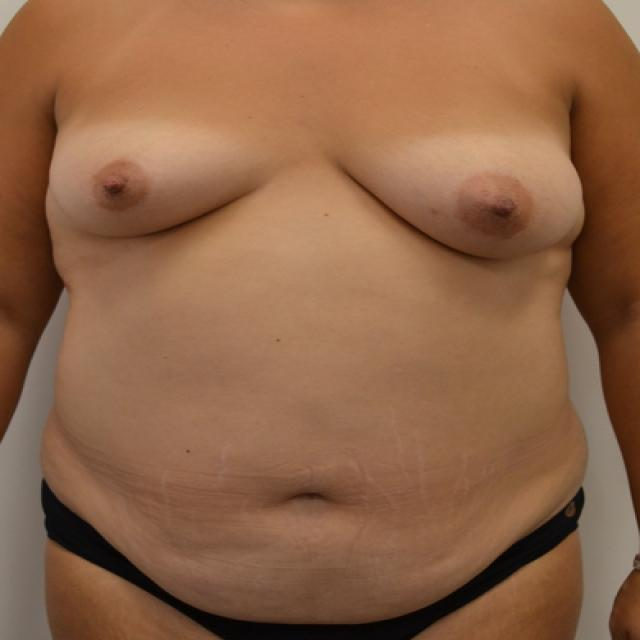Seno ileso: (330, 102, 593, 280), (40, 104, 302, 255)
